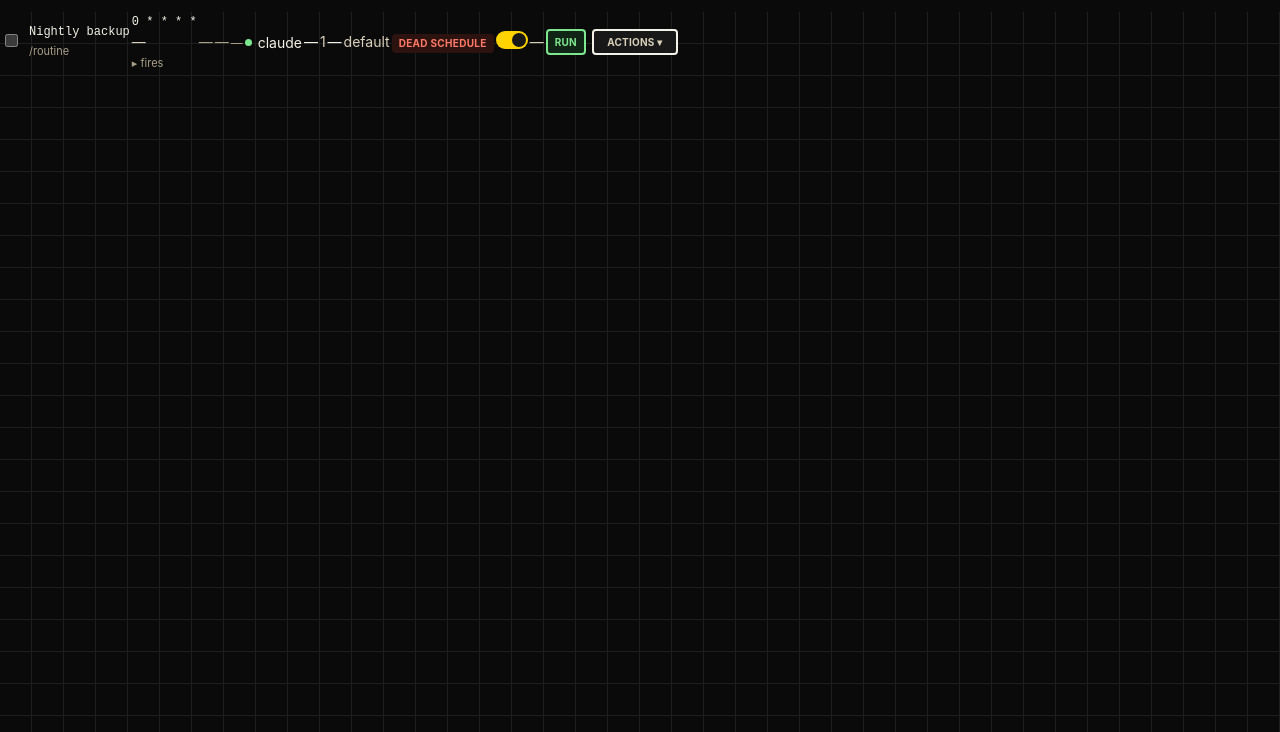
it: RoutineRow — failure circuit-breaker (issue #521) › groups secondary actions behind an actions dropdown
The width and height of the screenshot is (1280, 732).
Click the button "ACTIONS ▾": click(635, 42) [592, 28, 678, 54]
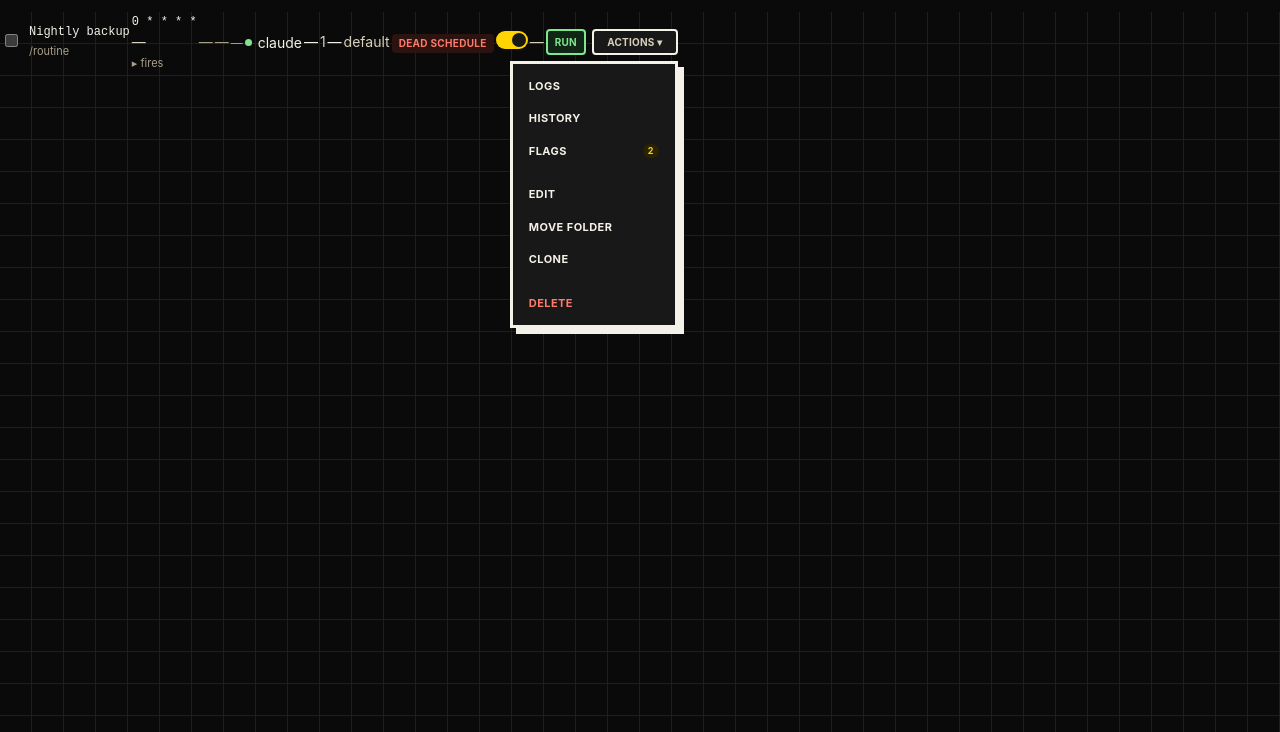
Expected: the menu is shown, [510, 60, 678, 328]
Click the menu item "Logs": click(594, 86) [519, 70, 669, 102]
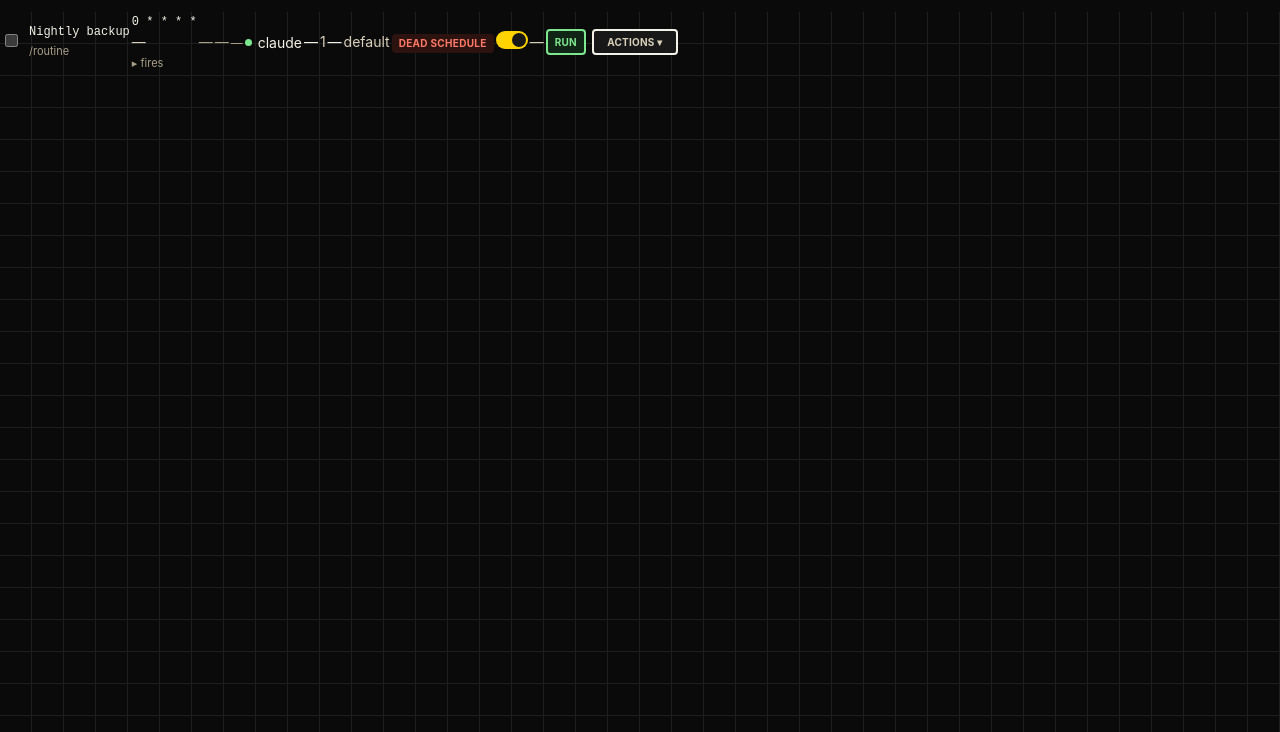
Expected: the menu is gone
